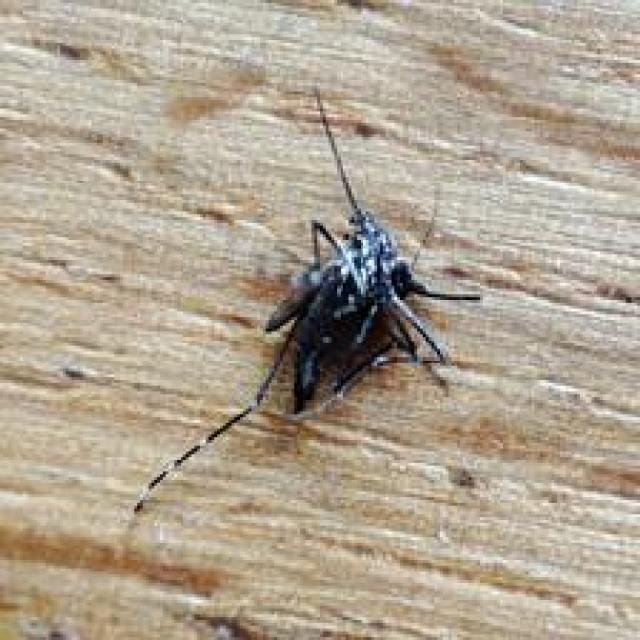Aedes albopictus: (131, 84, 483, 516)
